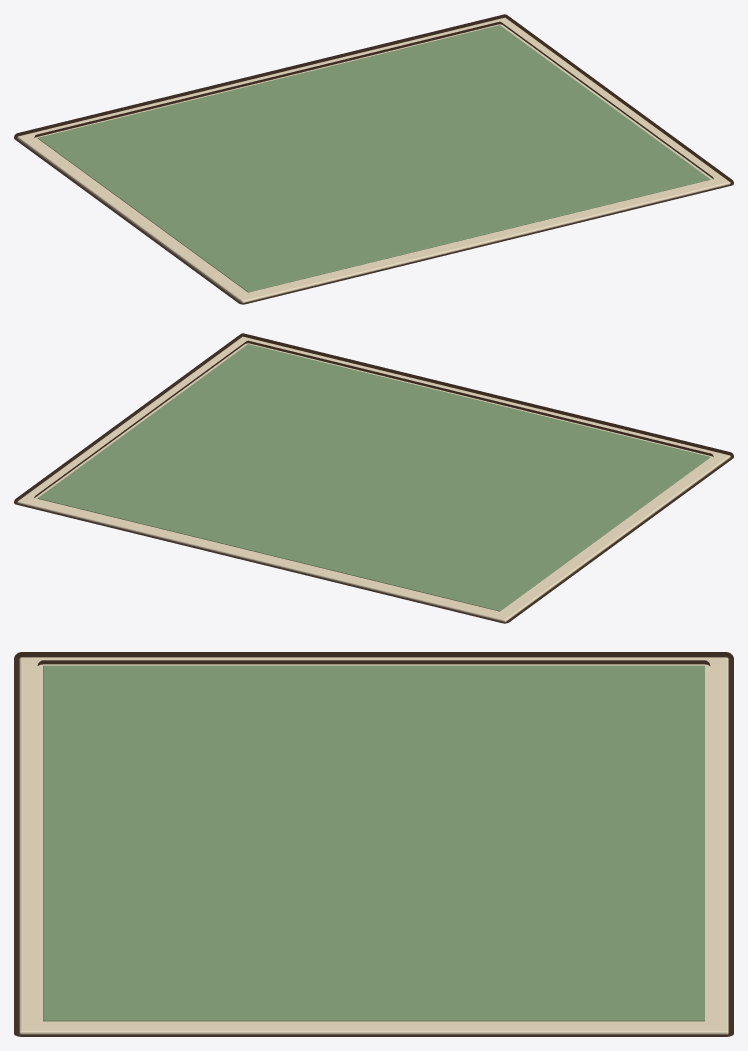
Rendered from botanic-rug.glb.
3 renders of one model, top to bottom at view 1: azimuth 30°, elevation 25°; view 2: azimuth 150°, elevation 25°; view 3: azimuth 270°, elevation 25°, orthographic. The views are drawn at different scales.
Parts seen in each view (by area): view 1: botanic-rug, botanic-rug-outline; view 2: botanic-rug, botanic-rug-outline; view 3: botanic-rug, botanic-rug-outline.
Boxes of the visible parts, x1,y1,x2,y2 form: botanic-rug: [17, 17, 730, 303]; botanic-rug-outline: [14, 14, 733, 304]; botanic-rug: [17, 336, 730, 622]; botanic-rug-outline: [14, 333, 733, 623]; botanic-rug: [19, 657, 728, 1034]; botanic-rug-outline: [14, 652, 733, 1036].
Bounding box in the file's own units: 3.04 × 0.0389 × 2.44.
